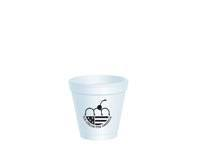Plastic cup: (62, 70, 140, 146)
